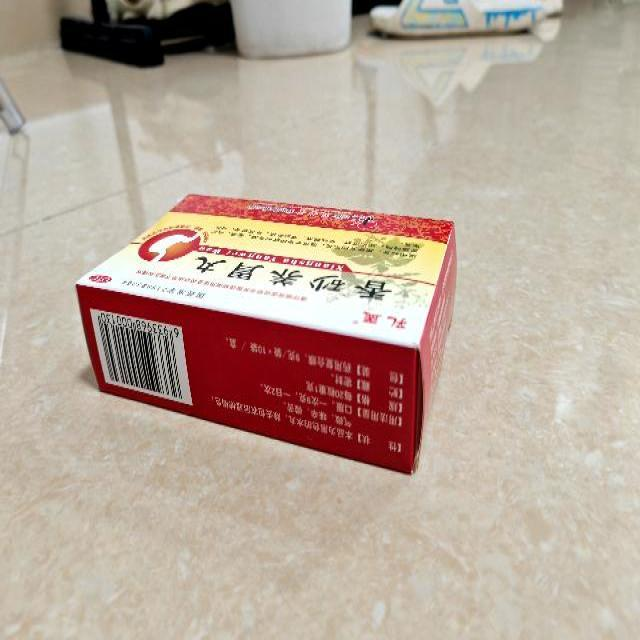box: (76, 193, 456, 471)
